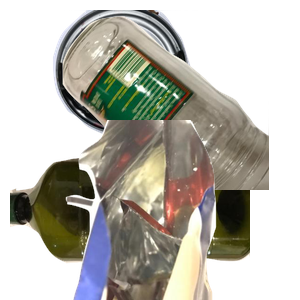glass: (60, 14, 300, 194)
metal: (50, 10, 262, 140)
plastic: (10, 149, 250, 300)
trash: (63, 120, 300, 300)
